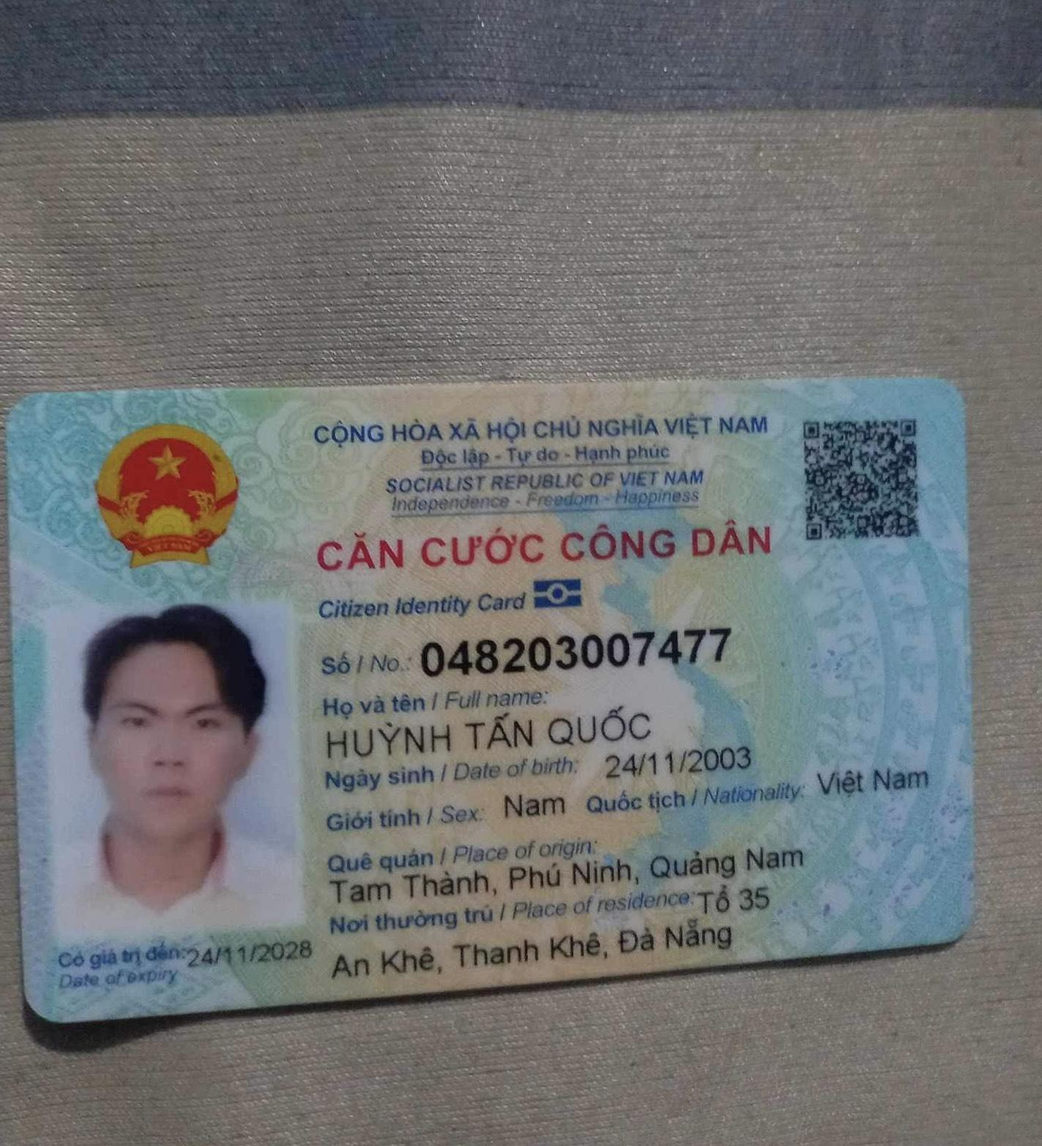ID: (410, 609, 739, 686)
birth: (596, 736, 765, 790)
name: (315, 694, 663, 769)
place: (320, 836, 815, 913)
residence: (322, 908, 748, 991), (694, 875, 778, 922)
